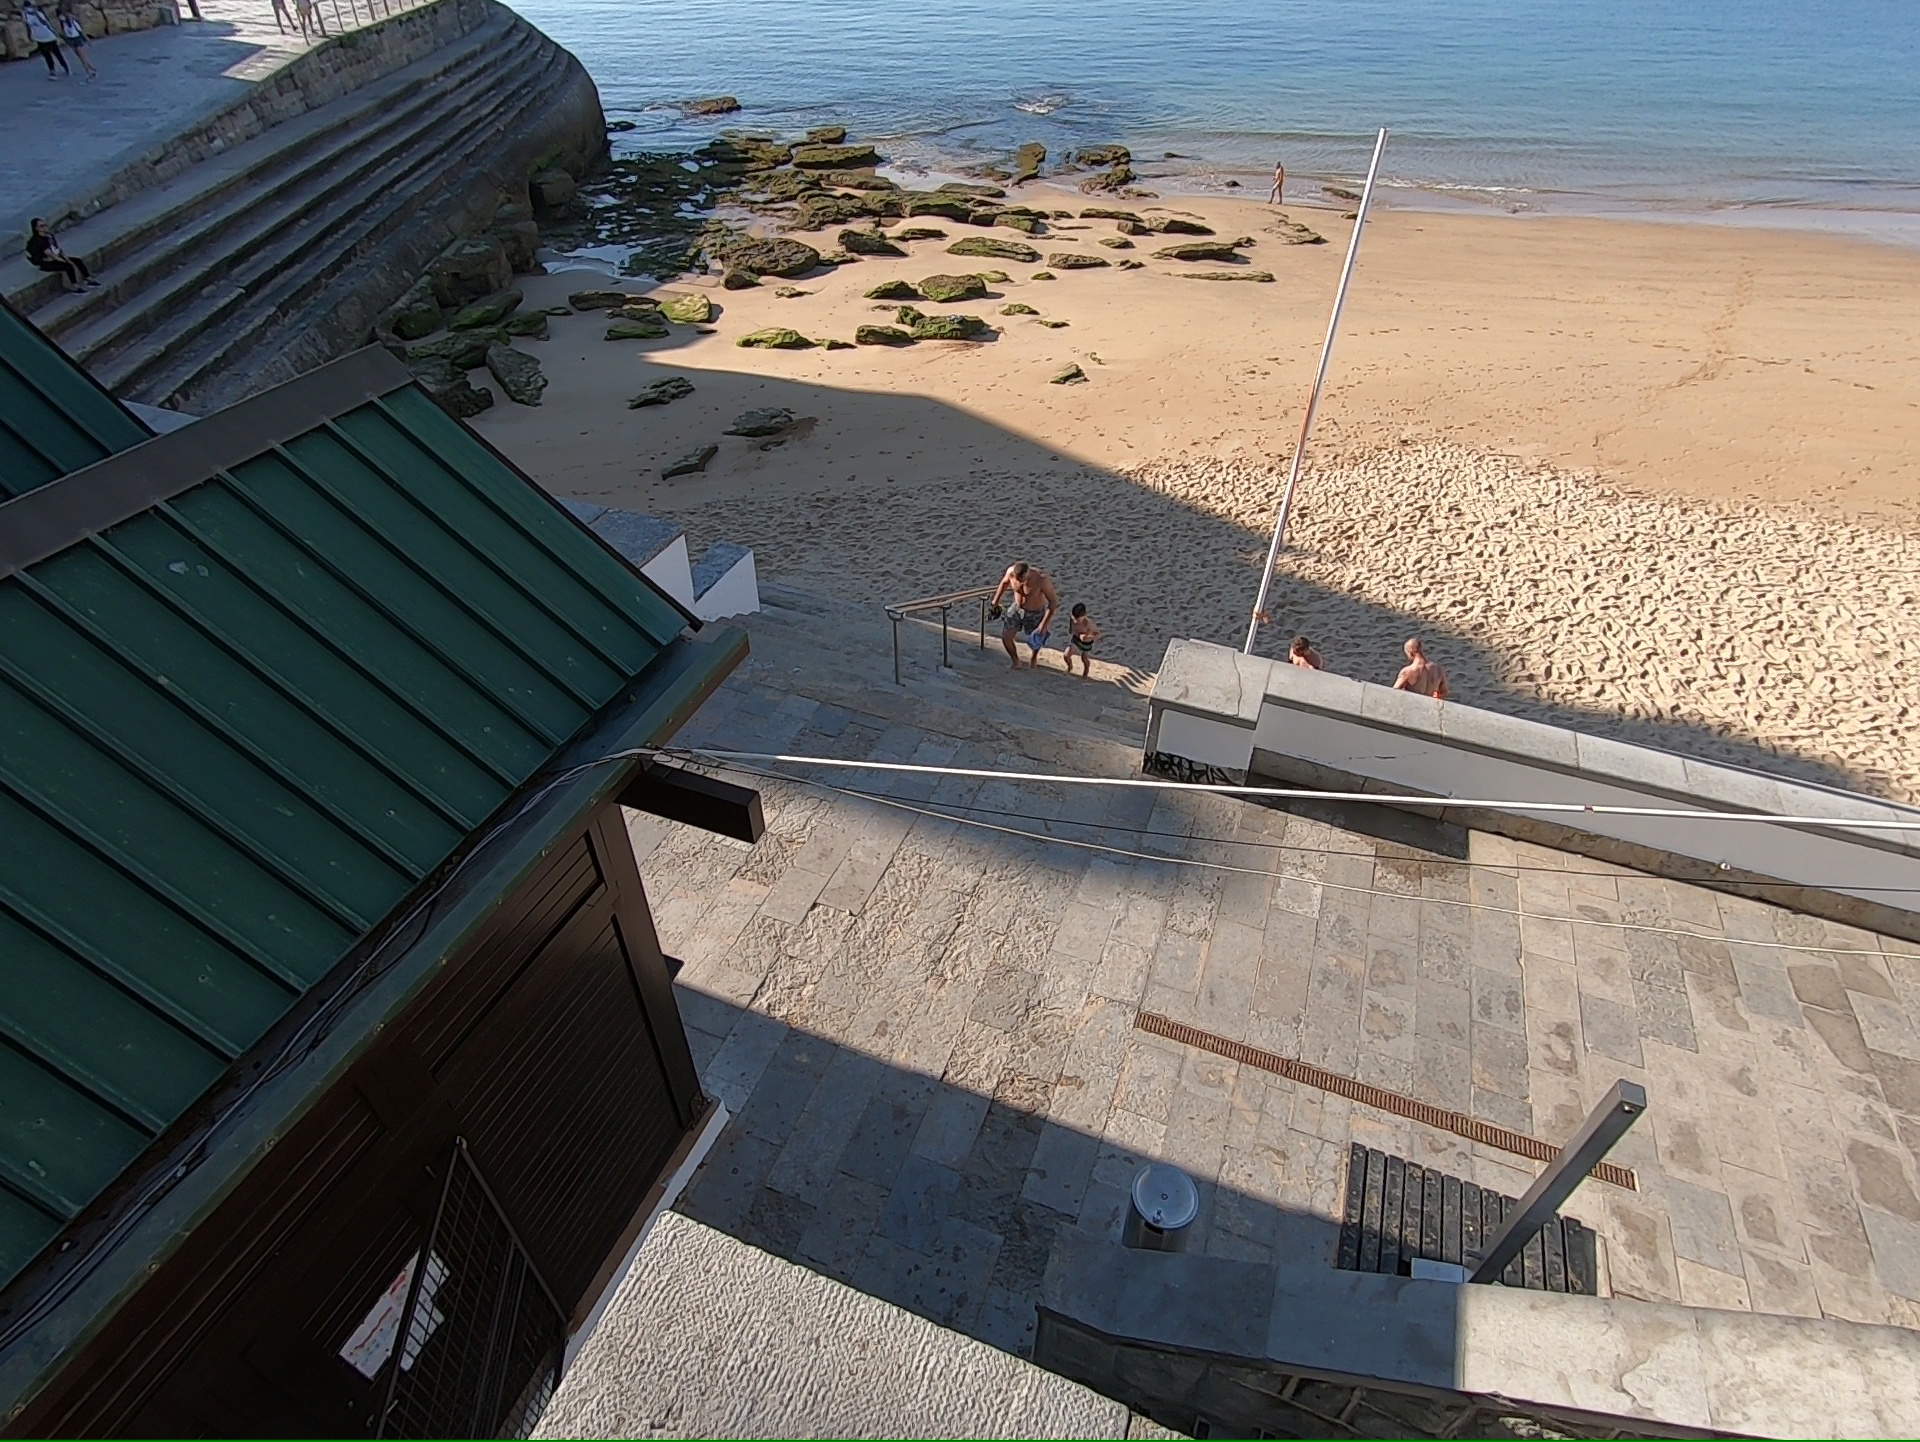person: (988, 560, 1056, 670), (1393, 636, 1446, 697), (1062, 599, 1100, 681), (1282, 628, 1325, 666), (1266, 160, 1285, 206)
